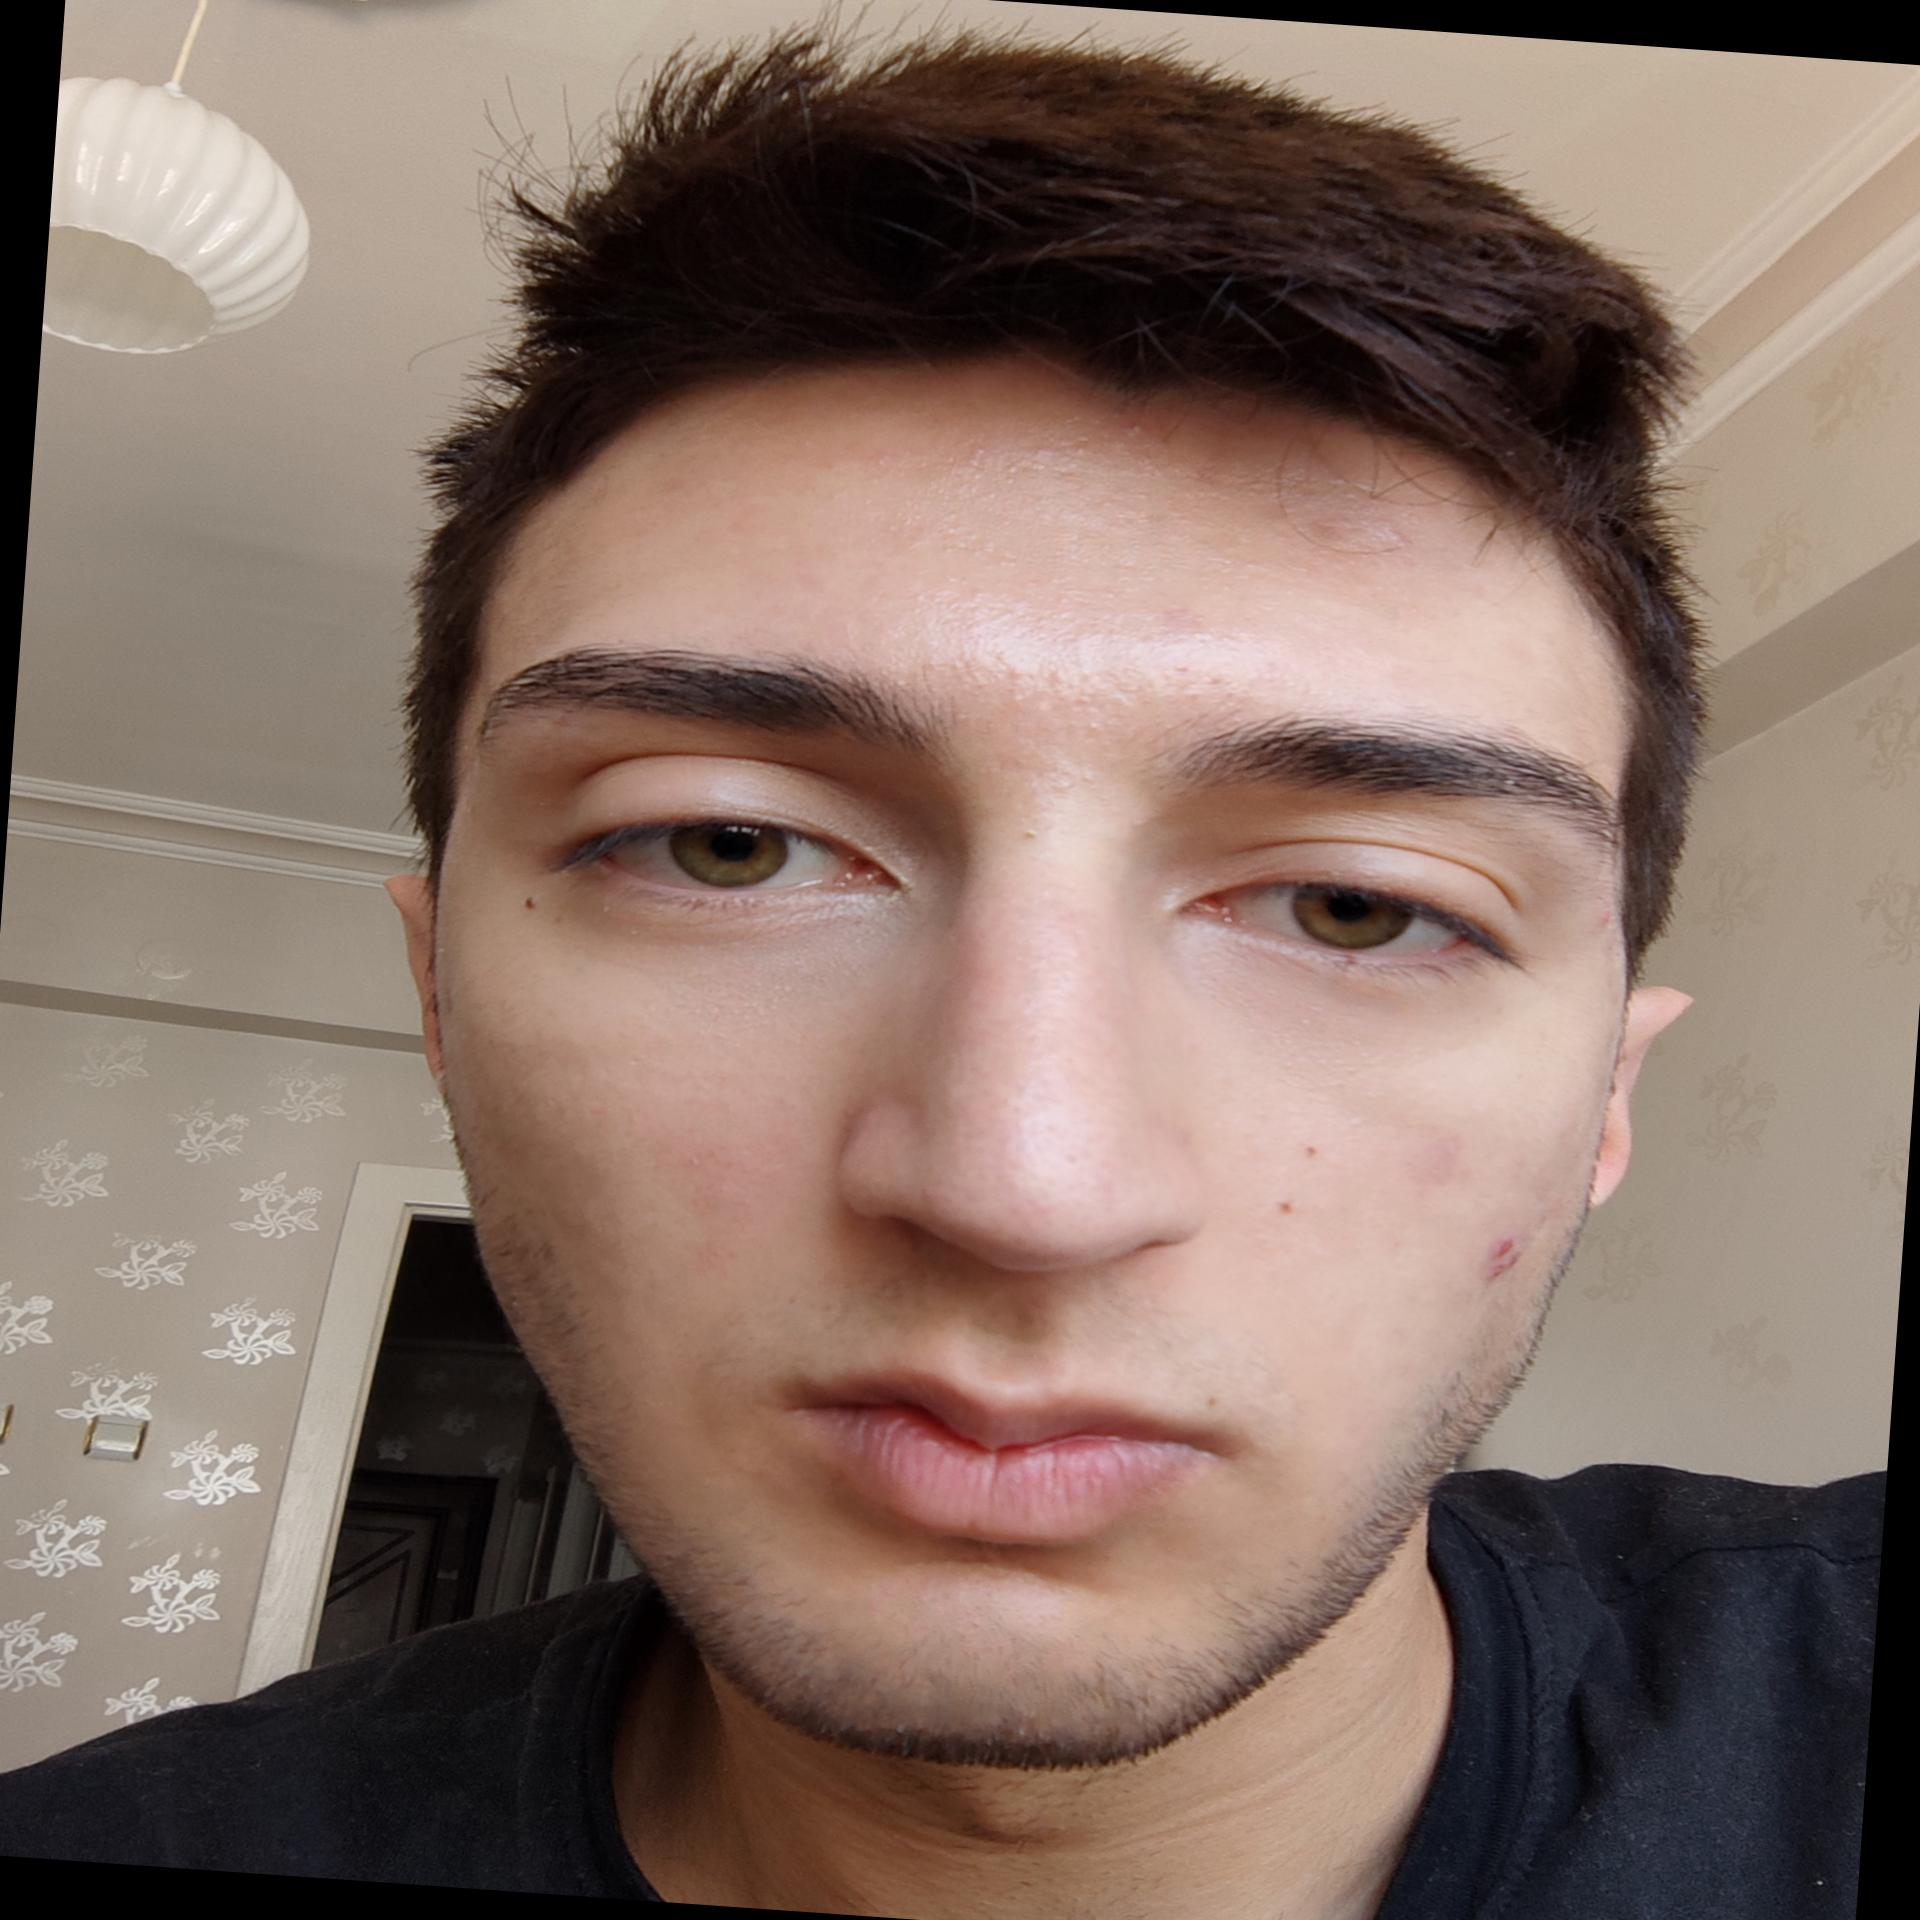Acne: (1020, 686, 1124, 737), (1398, 1118, 1461, 1196), (1148, 594, 1238, 647), (1479, 1220, 1544, 1289), (1046, 765, 1108, 802), (1002, 659, 1074, 686), (1020, 438, 1073, 464), (955, 438, 990, 468), (1593, 904, 1616, 937)
